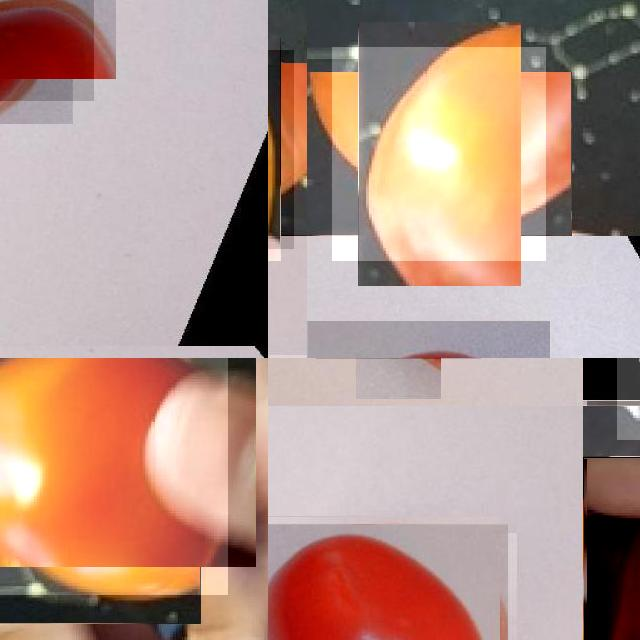1: (332, 47, 546, 261)
Fresh Tomato: (0, 358, 228, 595), (268, 524, 508, 640), (0, 0, 94, 101)
